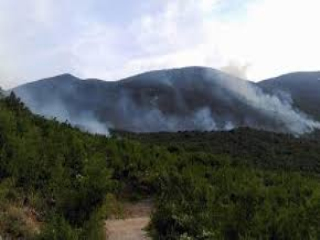smoke: (214, 70, 317, 135), (18, 89, 116, 141), (129, 94, 217, 134), (221, 118, 237, 131)
